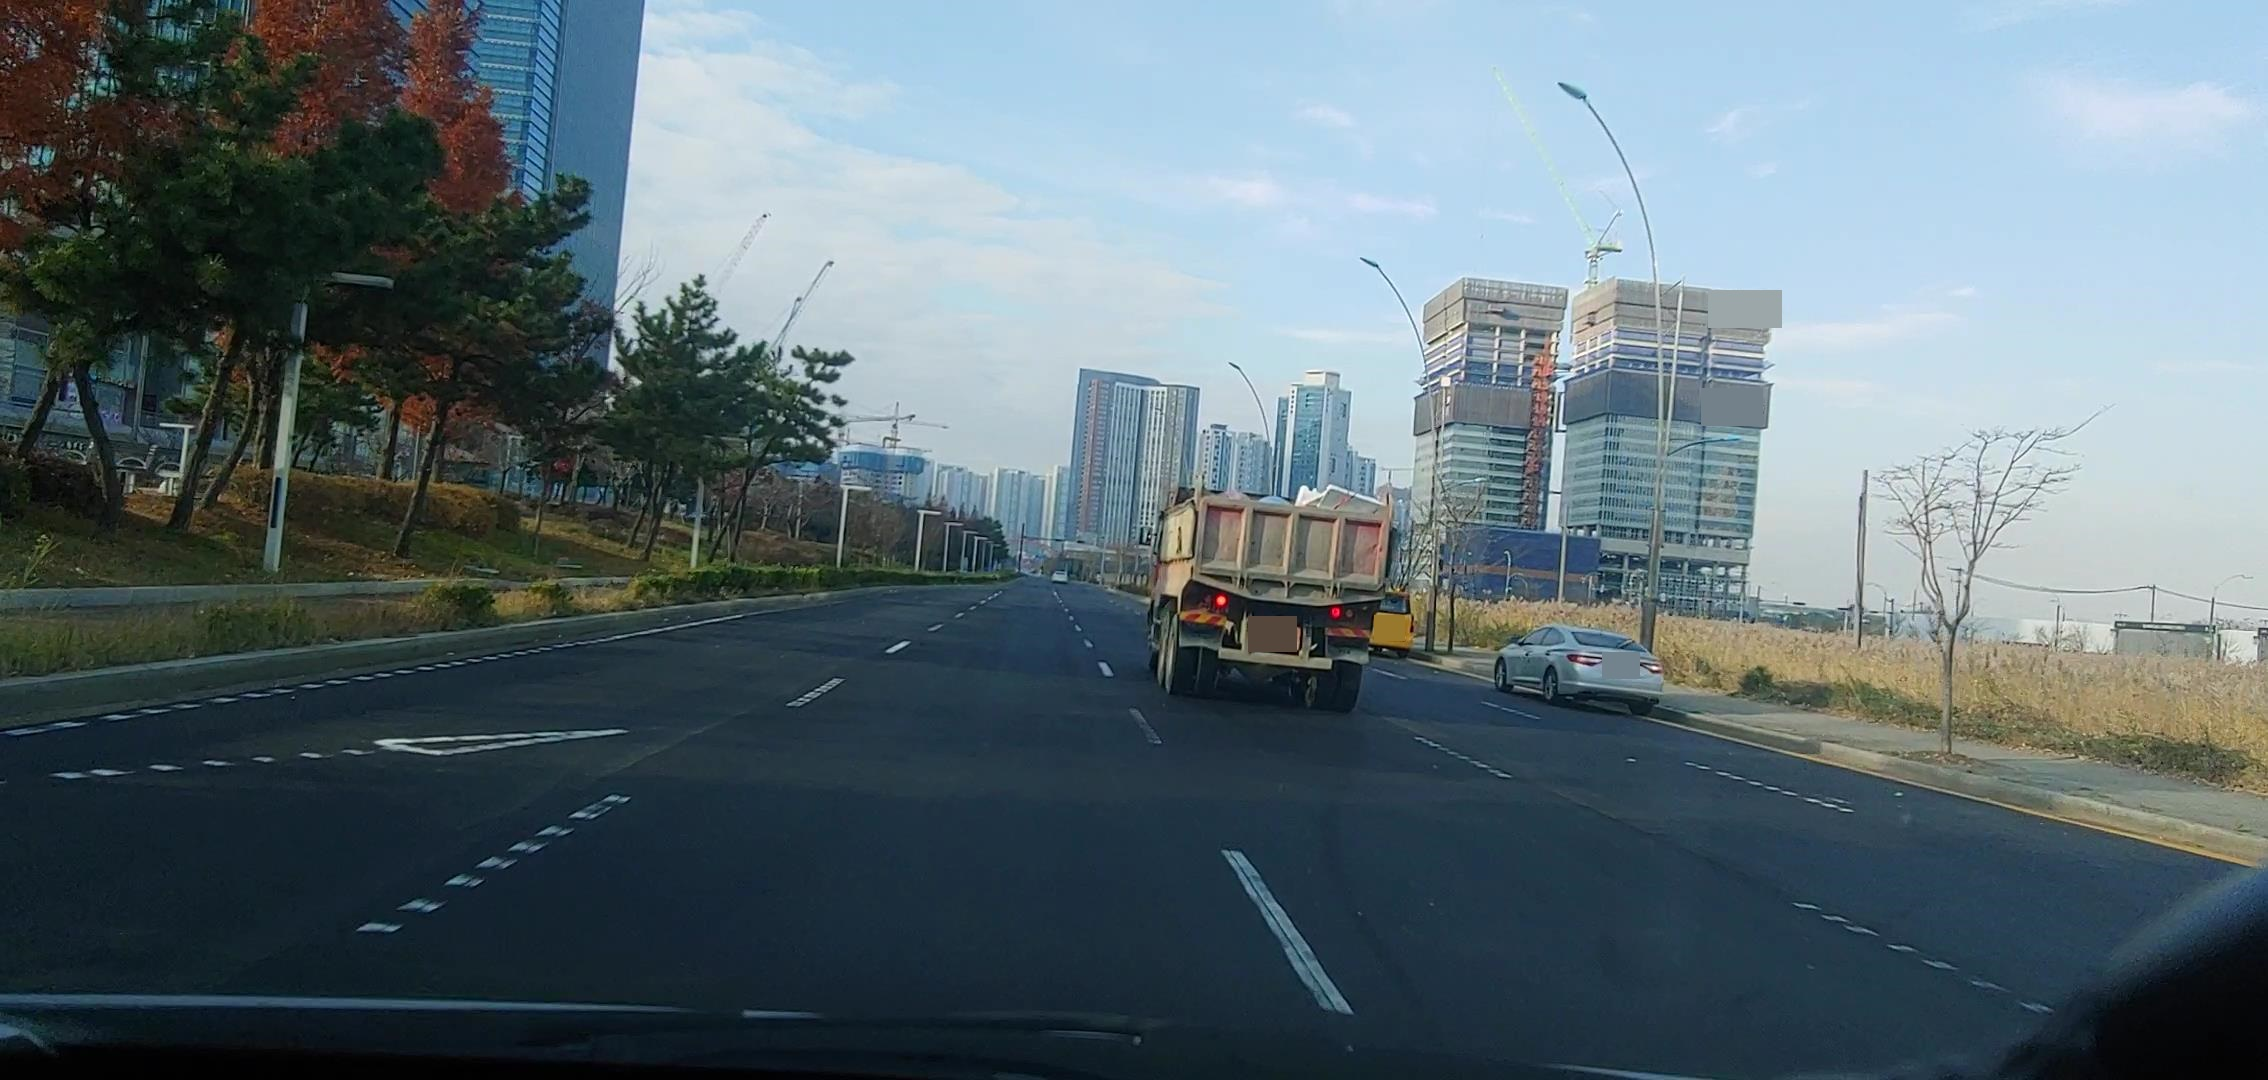불법차량: (1139, 485, 1395, 713)
